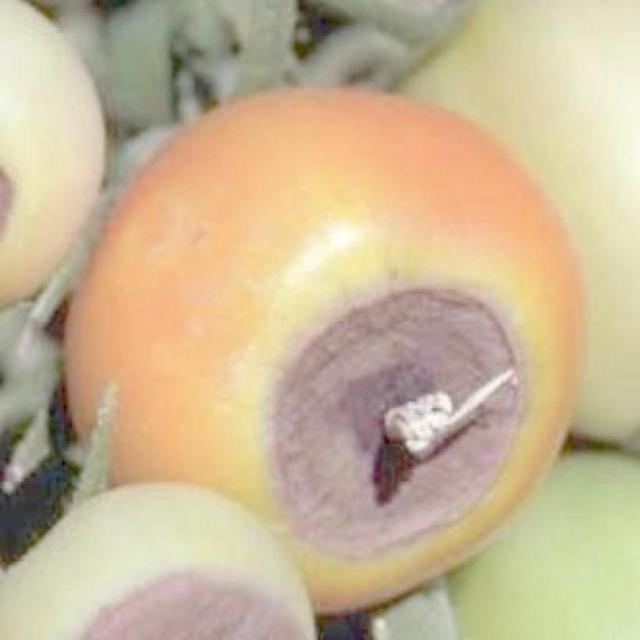Blossom End Rot Fruit: (6, 48, 262, 401)
